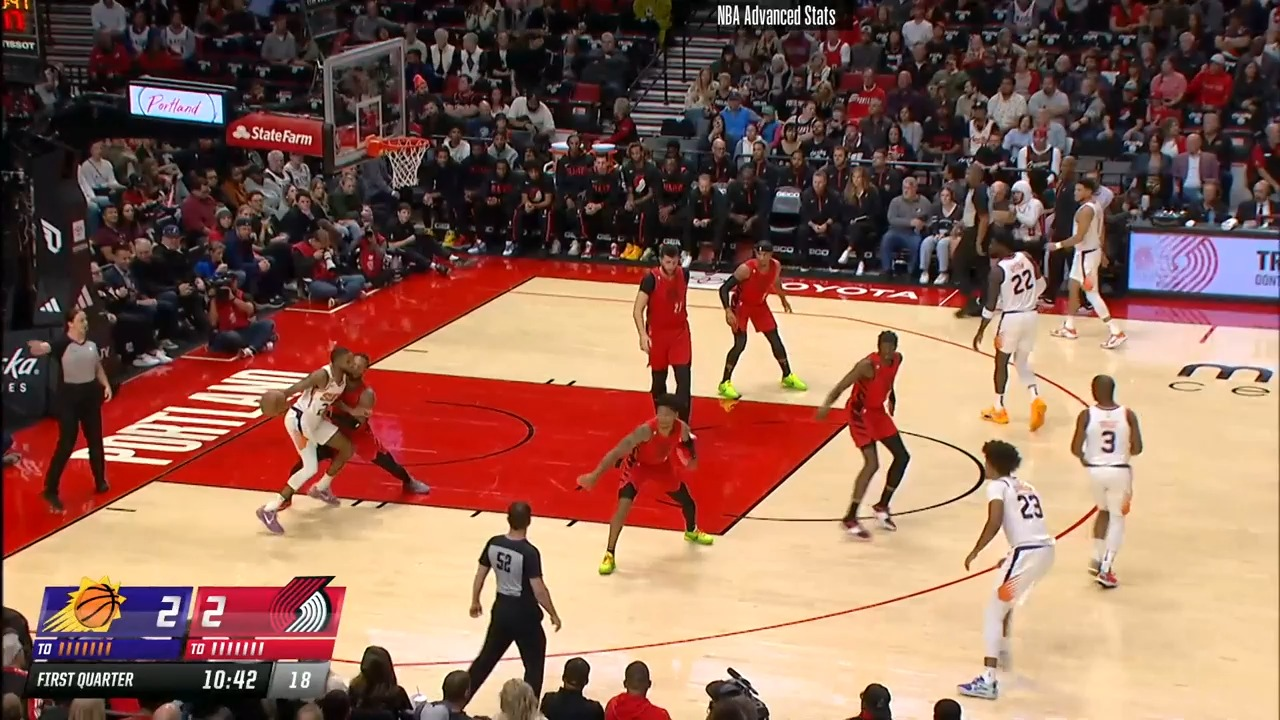net: (365, 131, 432, 193)
player: (962, 435, 1057, 702), (581, 394, 713, 576), (815, 326, 917, 540), (261, 352, 361, 539), (1070, 372, 1154, 593), (312, 353, 424, 517), (975, 231, 1050, 429), (713, 236, 799, 406), (635, 241, 702, 433), (1061, 176, 1130, 355)
referee: (459, 503, 567, 712), (36, 309, 114, 514), (947, 164, 996, 325)
